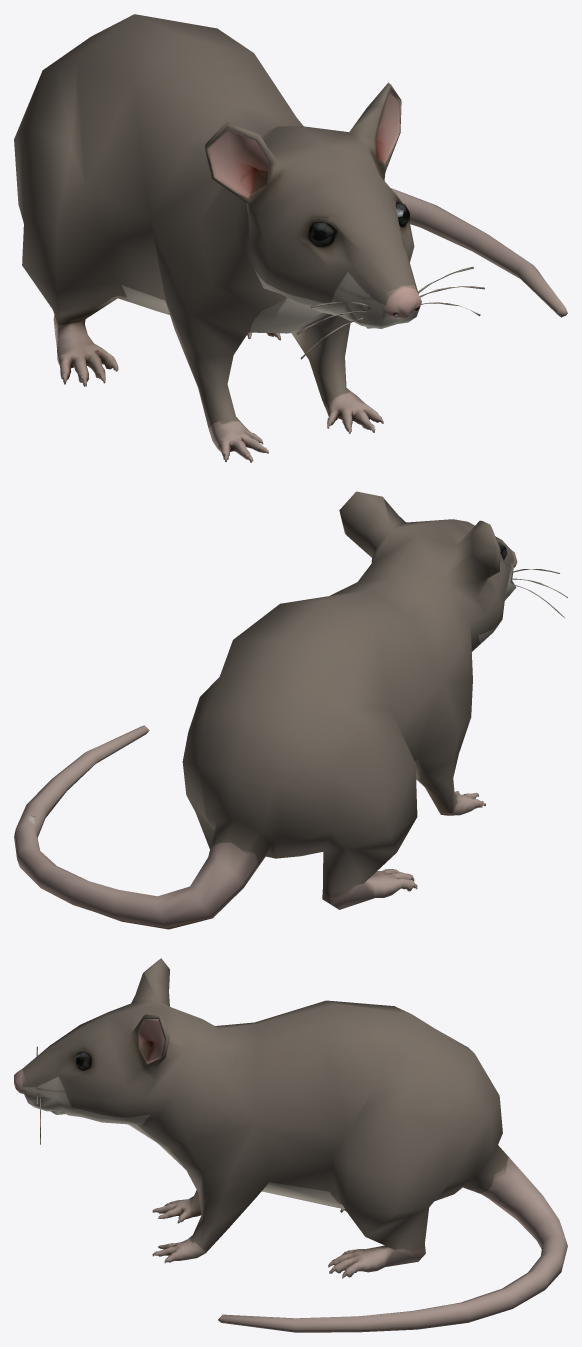
File: selected.fbx
The picture shows the model from 3 angles, top to bottom: view 1: azimuth 30°, elevation 25°; view 2: azimuth 150°, elevation 25°; view 3: azimuth 270°, elevation 25°; orthographic projection. The views are drawn at different scales.
Visible parts, largest first — view 1: tripo_node_2d58b4dd-9187-4e12-bcd1-0aa74167500b; view 2: tripo_node_2d58b4dd-9187-4e12-bcd1-0aa74167500b; view 3: tripo_node_2d58b4dd-9187-4e12-bcd1-0aa74167500b.
Part boxes in pixels (x1,y1,x2,y2): tripo_node_2d58b4dd-9187-4e12-bcd1-0aa74167500b: (14,14,567,462); tripo_node_2d58b4dd-9187-4e12-bcd1-0aa74167500b: (14,491,567,929); tripo_node_2d58b4dd-9187-4e12-bcd1-0aa74167500b: (14,958,567,1332).
Size of the model in its own units: 67.38 by 49.8 by 99.8.
1 material, 1 textured.
